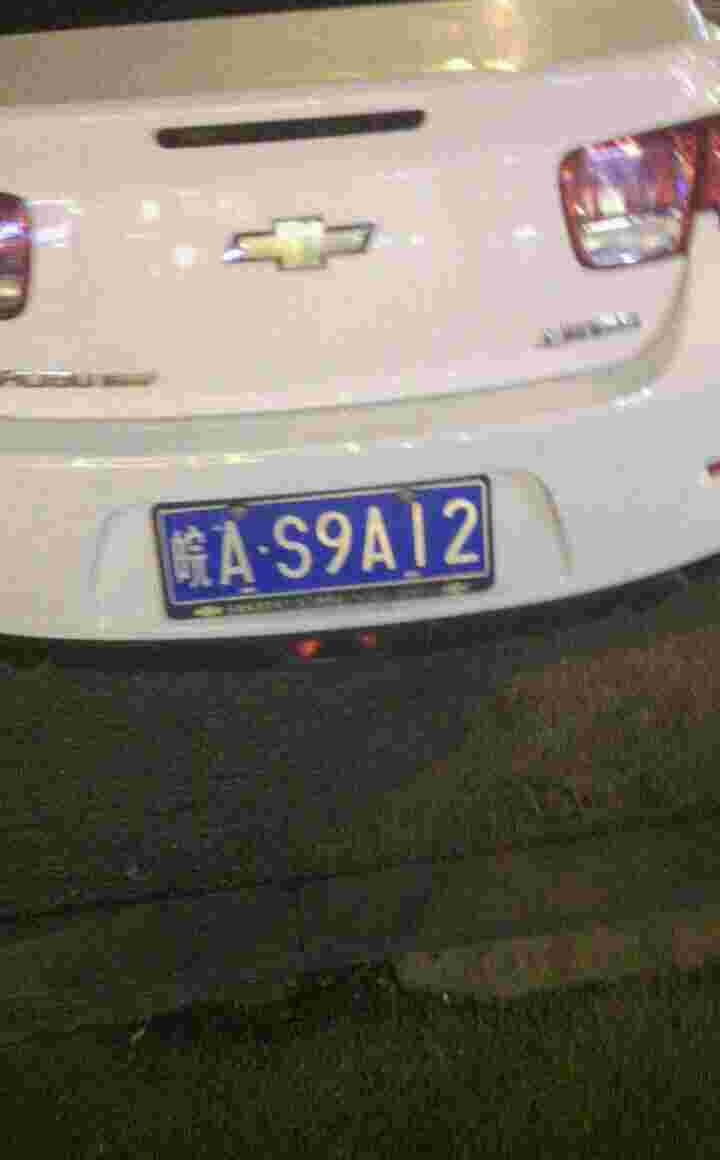car_blue: (149, 468, 493, 616)
